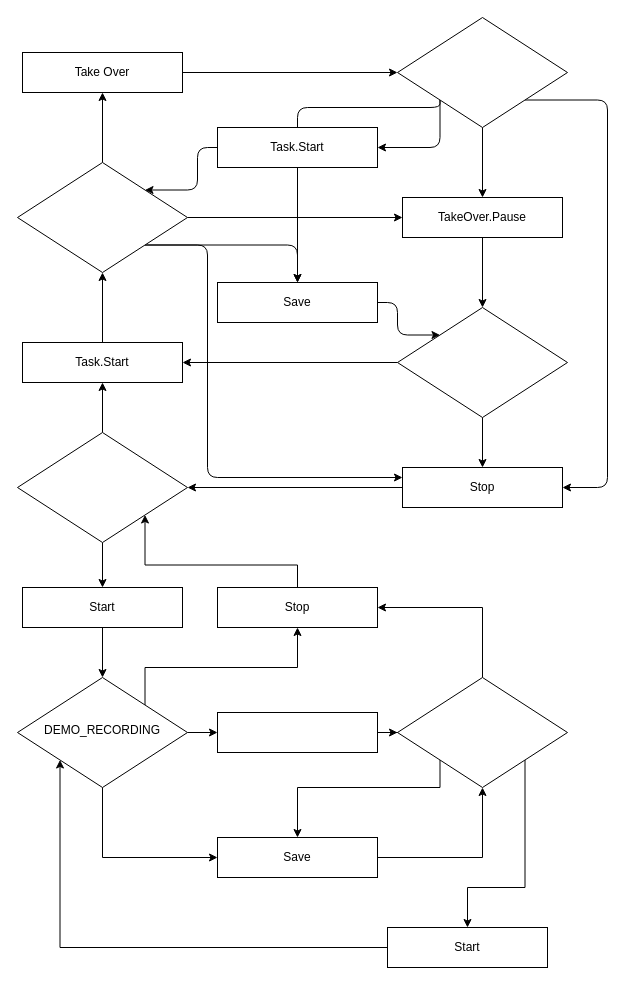
Some shapes in this 633 by 985 pixel diagram are drawn without their labels. The box of each missing label's shape, as (x1, y1, x2, y2) in pixels:
DEMO_PAUSED: (396, 676, 568, 788)
Pause: (216, 712, 378, 752)
Standby: (16, 432, 188, 542)
TASK_PAUSED: (396, 306, 568, 418)
TASK_RUNNING: (16, 162, 188, 272)
TASK_TAKE_OVER: (396, 16, 568, 128)
